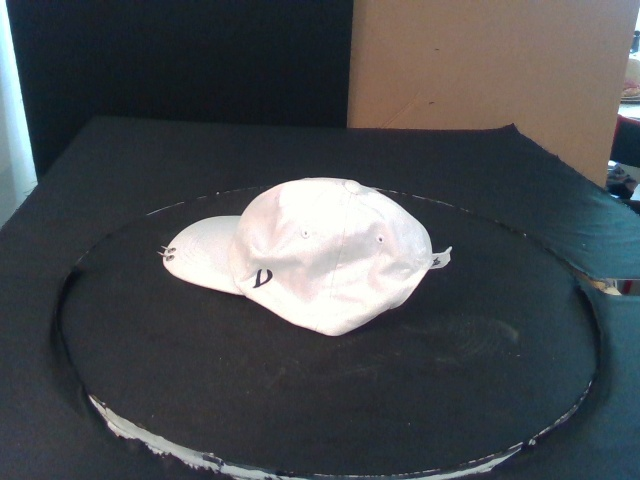hat: (161, 178, 434, 338)
